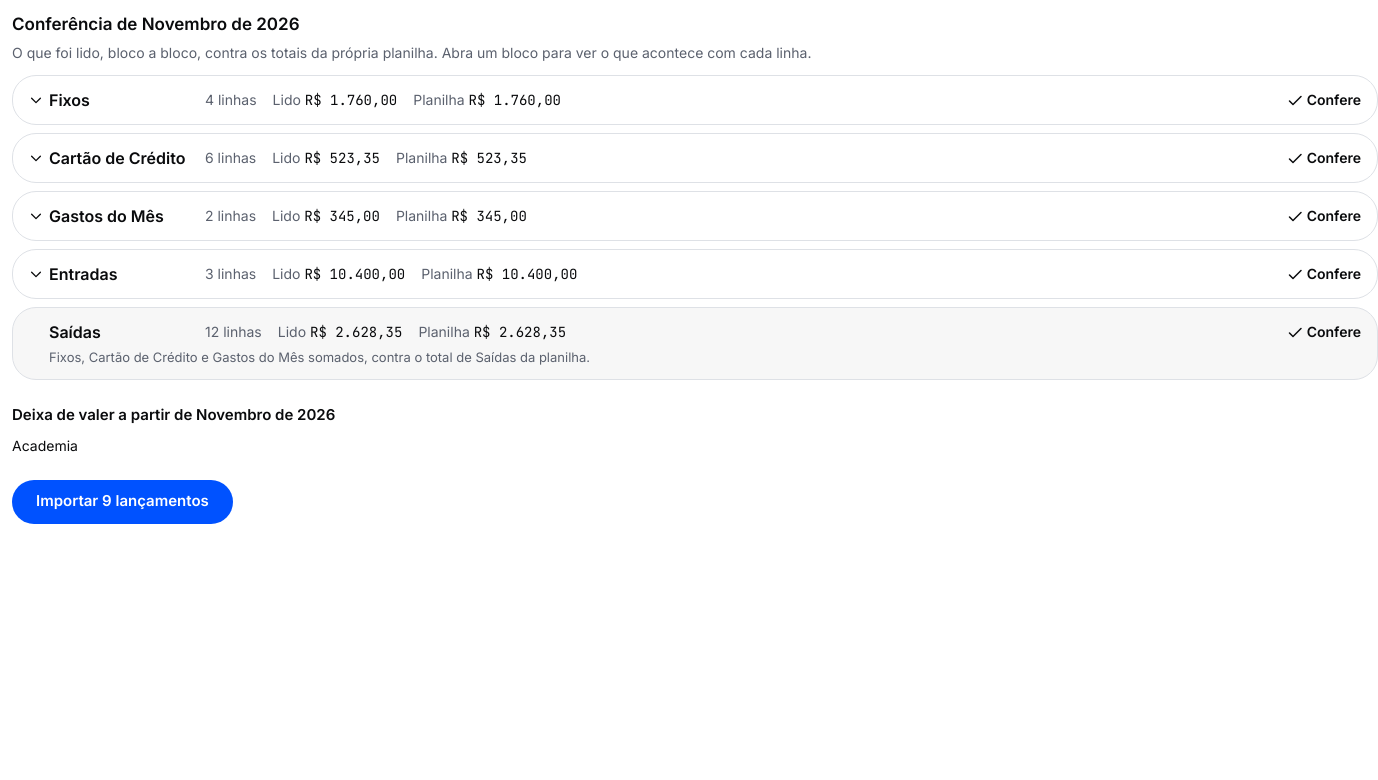
PassoConferencia — o destino de cada linha (IMP-05, AC 5) › novembro, Fixos: Internet com reajuste de R$ 100,00 para R$ 110,00
This screenshot has width=1378, height=780.
Click the heading "Fixos 4 linhas Lido R$ 1.760,00 Planilha R$ 1.760,00 Confere": (69, 100) [29,90,1361,110]
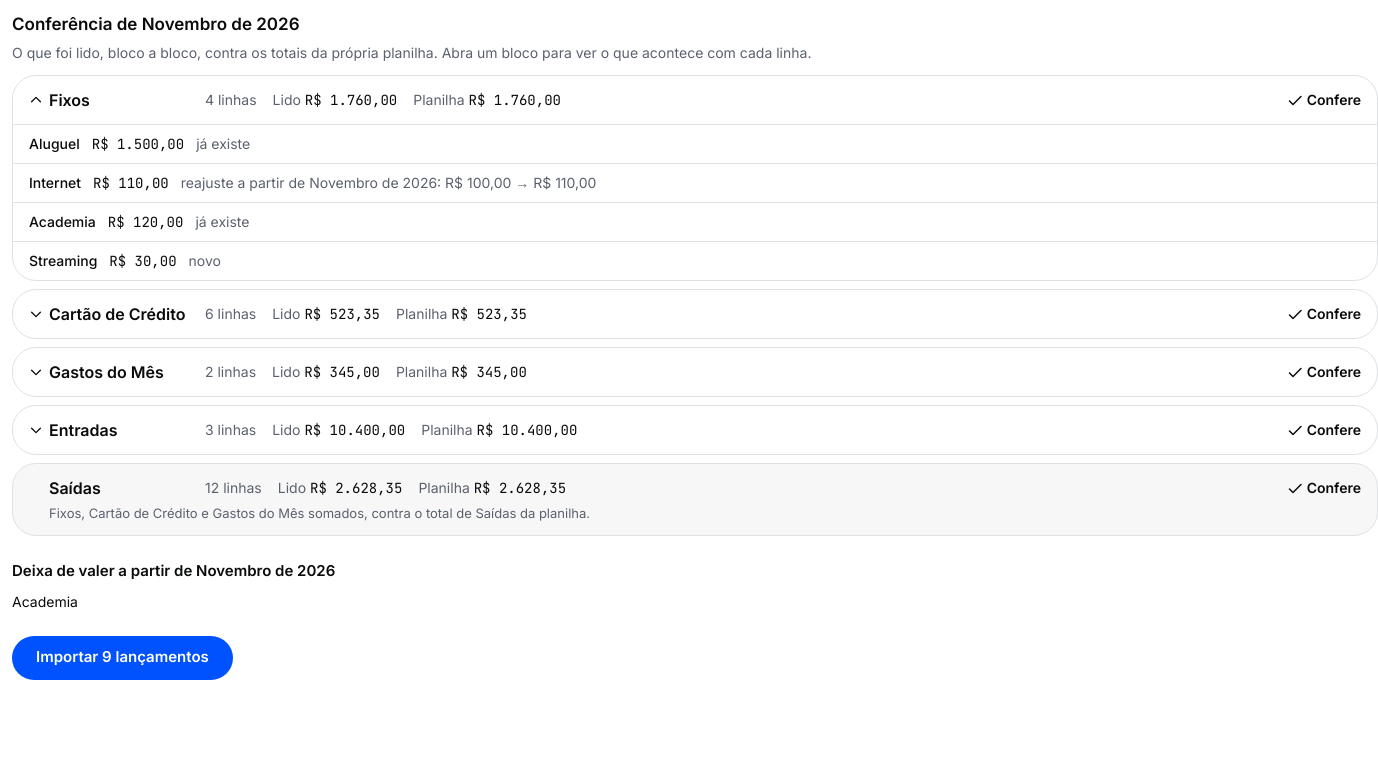
Result: the list item "Internet" shows "reajuste a partir de Novembro de 2026: R$ 100,00 → R$ 110,00" at [181,174,596,190]
Result: the text "já existe" is shown 2 times at [196,132,250,154]; [195,210,250,232]
